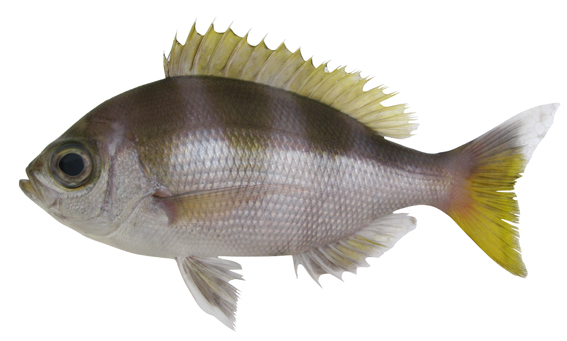fish: (20, 18, 560, 331)
